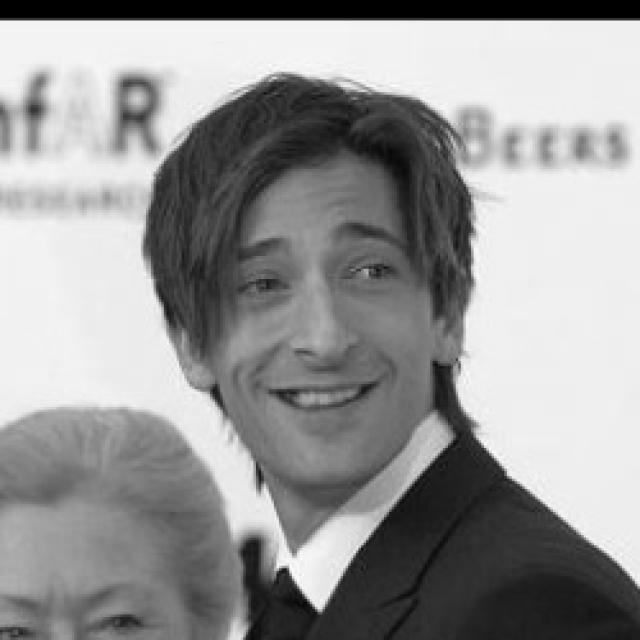real: (201, 142, 435, 490), (234, 253, 420, 312)
